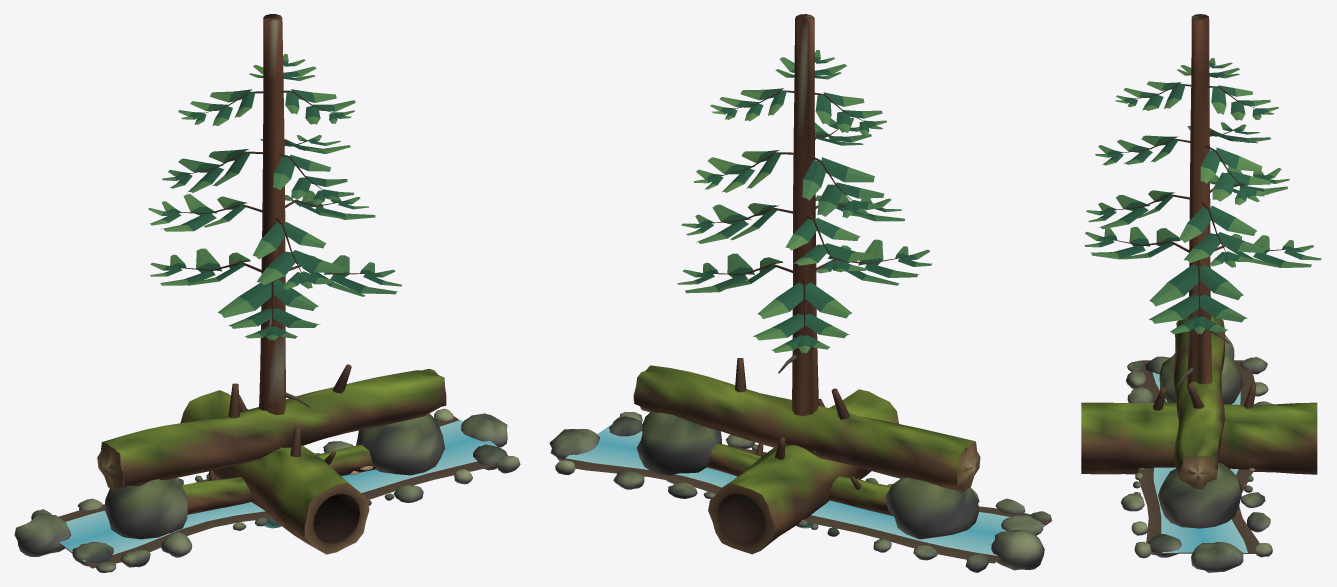
The model's file is props.glb.
3 views of the same model, side by side, from view 1: azimuth 30°, elevation 25°; view 2: azimuth 150°, elevation 25°; view 3: azimuth 270°, elevation 25° (orthographic). The views are drawn at different scales.
Visible parts, largest first — view 1: lane_tree, arch, creek, hollow_log, log; view 2: lane_tree, arch, creek, hollow_log, log; view 3: lane_tree, hollow_log, arch, creek.
Boxes of the visible parts, x1,y1,x2,y2 form: lane_tree: [148, 14, 401, 414]; arch: [97, 364, 446, 539]; creek: [14, 408, 520, 572]; hollow_log: [180, 390, 369, 554]; log: [181, 444, 375, 514]; lane_tree: [677, 14, 932, 452]; arch: [633, 358, 980, 539]; creek: [549, 411, 1052, 572]; hollow_log: [708, 389, 898, 554]; log: [706, 443, 892, 515]; lane_tree: [1084, 14, 1321, 387]; hollow_log: [1081, 382, 1317, 474]; arch: [1158, 315, 1242, 528]; creek: [1120, 335, 1272, 572].
Size of the model in its own units: 7.5 by 7.5 by 3.48.
